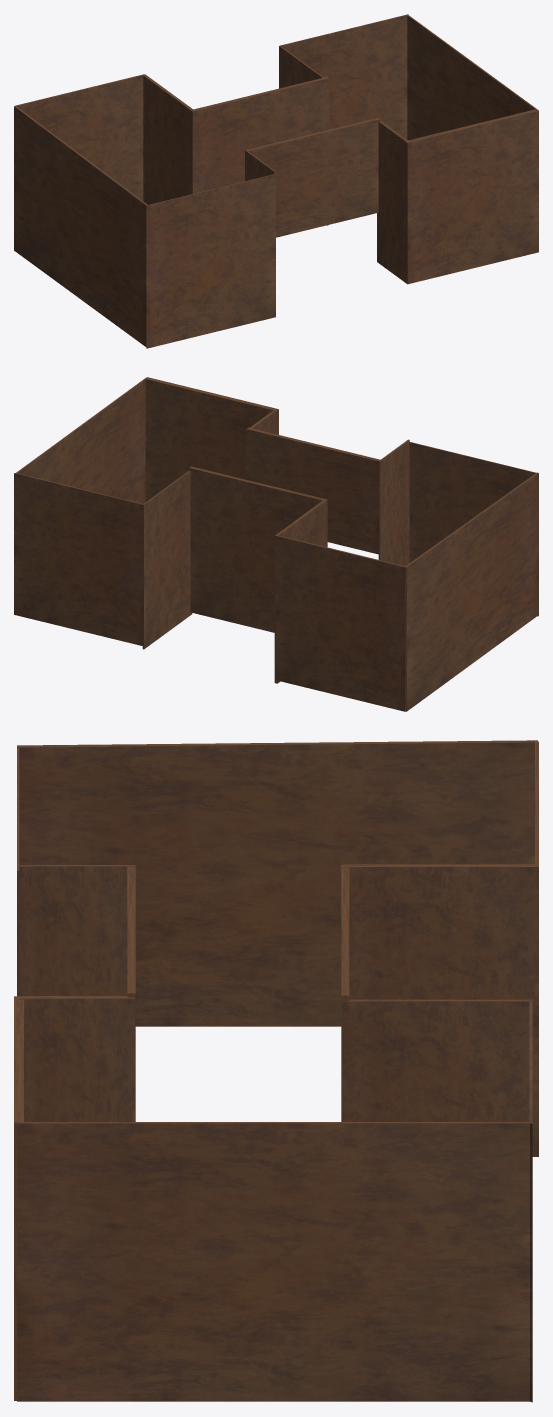
The model's file is Fachada.obj.
The picture shows the model from 3 angles, top to bottom: view 1: azimuth 30°, elevation 25°; view 2: azimuth 150°, elevation 25°; view 3: azimuth 270°, elevation 25°; orthographic projection. The views are drawn at different scales.
Visible parts, largest first — view 1: polySurface310; view 2: polySurface310; view 3: polySurface310.
Boxes of the visible parts, x1,y1,x2,y2 form: polySurface310: (14,14,538,348); polySurface310: (14,377,538,711); polySurface310: (14,740,538,1402).
Size of the model in its own units: 24.04 by 8.61 by 14.11.
2 materials, 2 textured.
